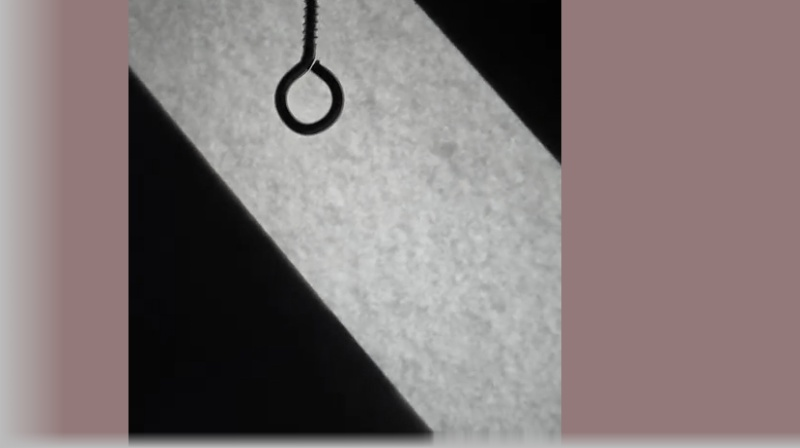O001: (272, 0, 345, 136)
